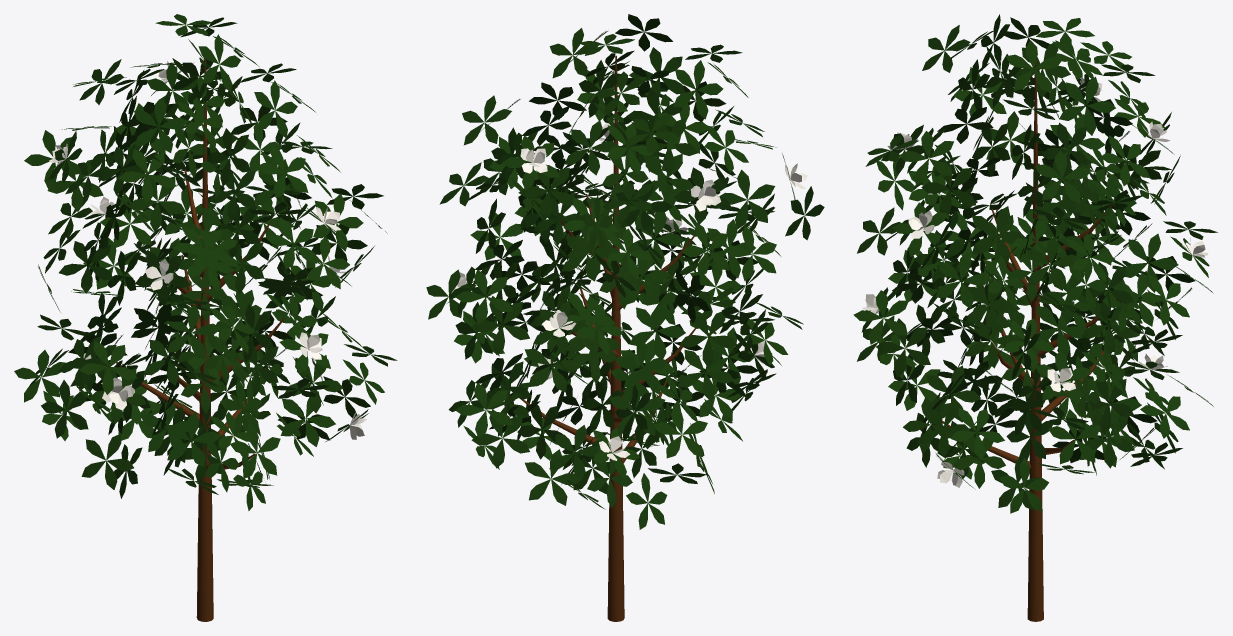
Rendered from tree.dae.
3 views of the same model, side by side, from view 1: azimuth 30°, elevation 25°; view 2: azimuth 150°, elevation 25°; view 3: azimuth 270°, elevation 25° (orthographic).
Parts seen in each view (by area): view 1: trunk; view 2: trunk; view 3: trunk.
Boxes of the visible parts, left/top/right/bottom form: trunk: left=196, top=58, right=213, bottom=621; trunk: left=607, top=55, right=624, bottom=621; trunk: left=1027, top=59, right=1043, bottom=621.
Bounding box in the file's own units: 130 × 129 × 231.
